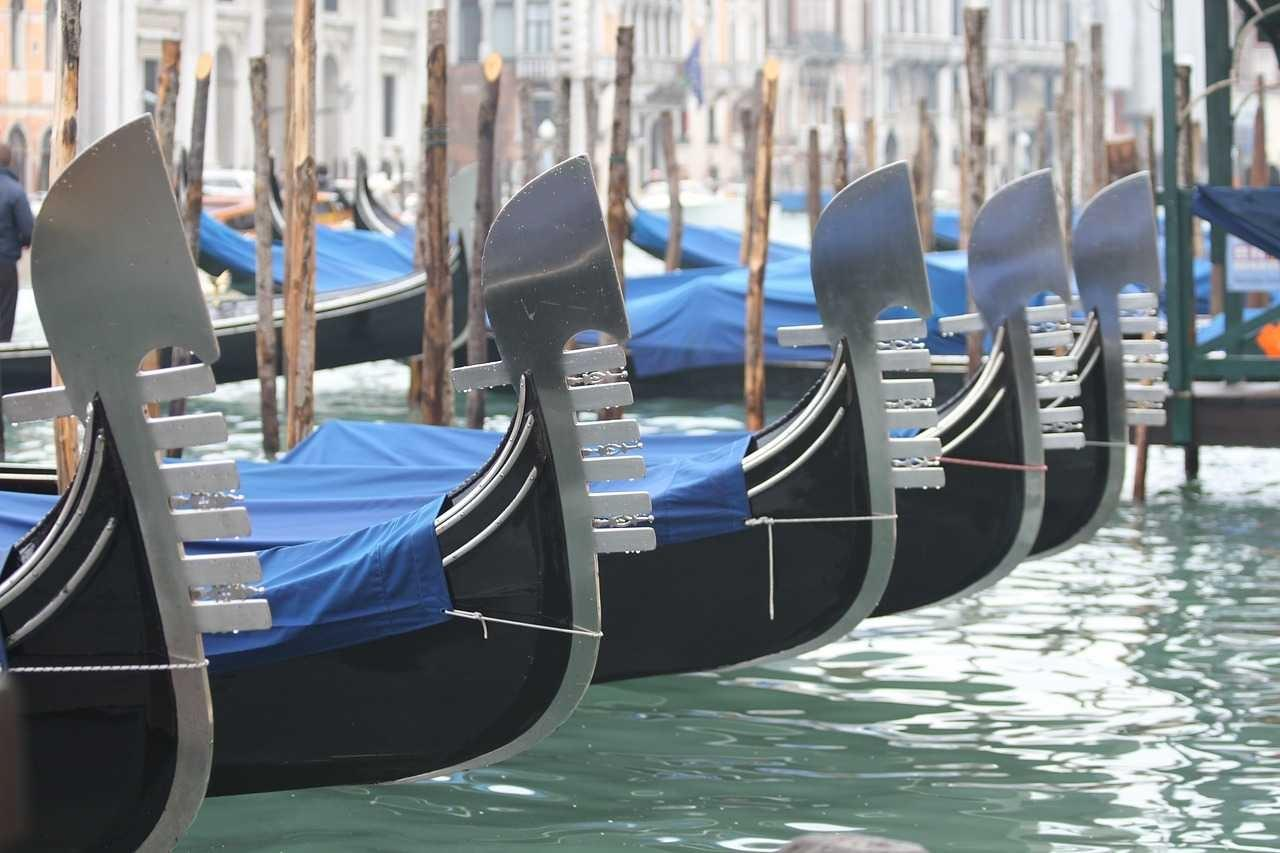kayak: (3, 146, 907, 792), (626, 241, 986, 387), (197, 205, 429, 381), (625, 193, 822, 370), (625, 179, 810, 270)
